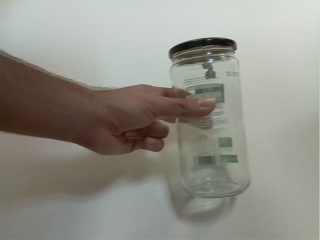pote cristal: (166, 34, 255, 200)
